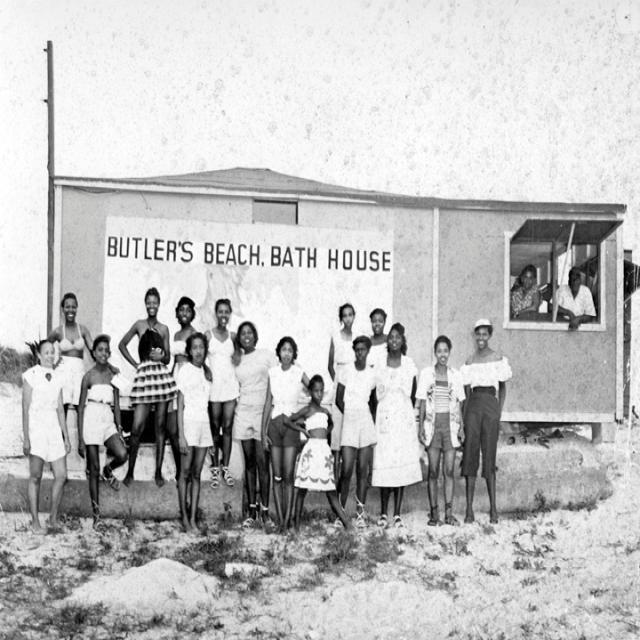body: (457, 315, 514, 525), (282, 373, 354, 537), (116, 285, 172, 488), (46, 291, 120, 444), (260, 333, 314, 540), (18, 336, 72, 536), (76, 332, 129, 532), (412, 333, 466, 527), (231, 318, 279, 534), (372, 321, 422, 528), (333, 333, 378, 531), (174, 330, 214, 537), (201, 296, 237, 489), (326, 301, 360, 486), (546, 265, 597, 334), (510, 264, 542, 322), (172, 295, 199, 363), (366, 307, 390, 370)
